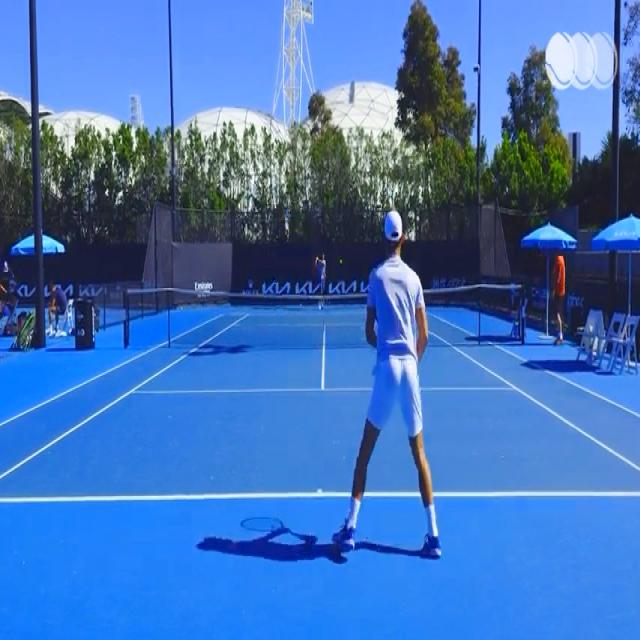ready-position: (343, 204, 452, 572)
